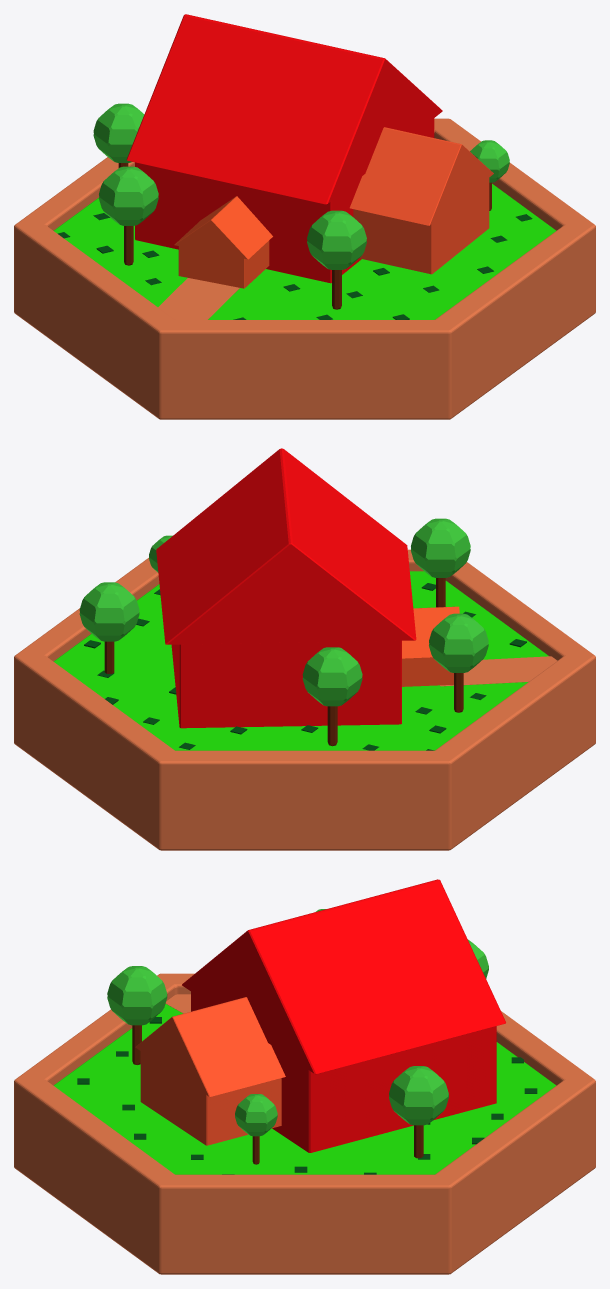
File: House1.fbx
3 renders of one model, top to bottom at view 1: azimuth 30°, elevation 25°; view 2: azimuth 150°, elevation 25°; view 3: azimuth 270°, elevation 25°, orthographic.
Parts seen in each view (by area): view 1: Cube.001; view 2: Cube.001; view 3: Cube.001.
Part boxes in pixels (x1,y1,x2,y2): Cube.001: (14,14,595,419); Cube.001: (14,448,595,850); Cube.001: (14,879,595,1274).
Bounding box in the file's own units: 173 × 99.55 × 200.
